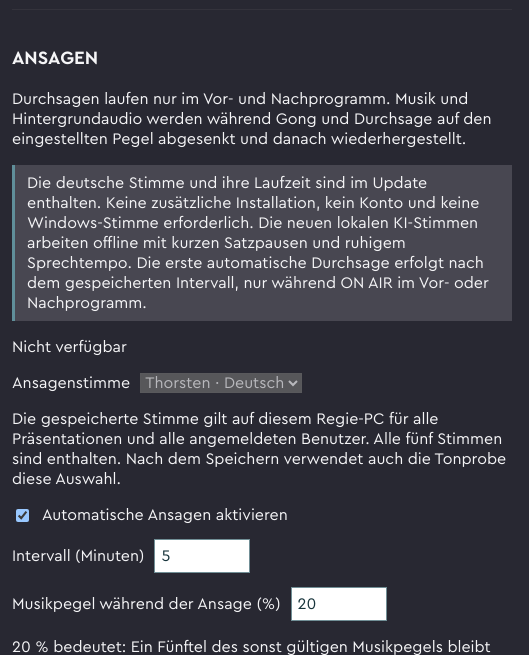
Test case: inactive announcement preparation settings › can disable saved announcements even when their engine has become unavailable
The width and height of the screenshot is (529, 655).
Click the checkbox labelled "Automatische Ansagen aktivieren".
click(22, 515)  # box [16,509,29,522]
(page scrolled)
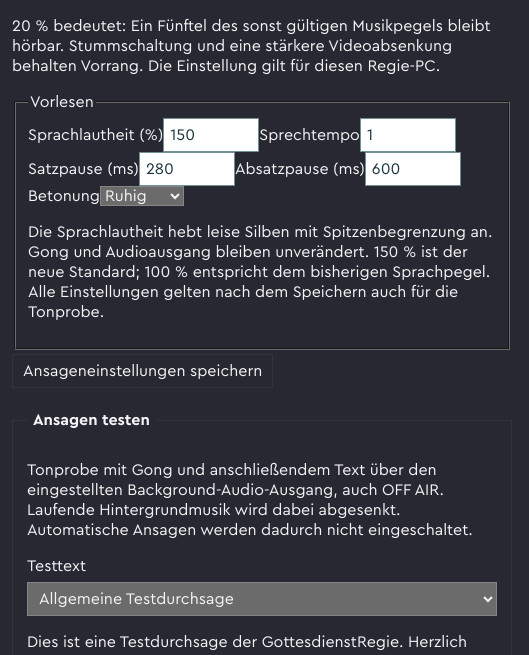
Click the button "Ansageneinstellungen speichern".
click(143, 371)  # box [12,354,273,388]
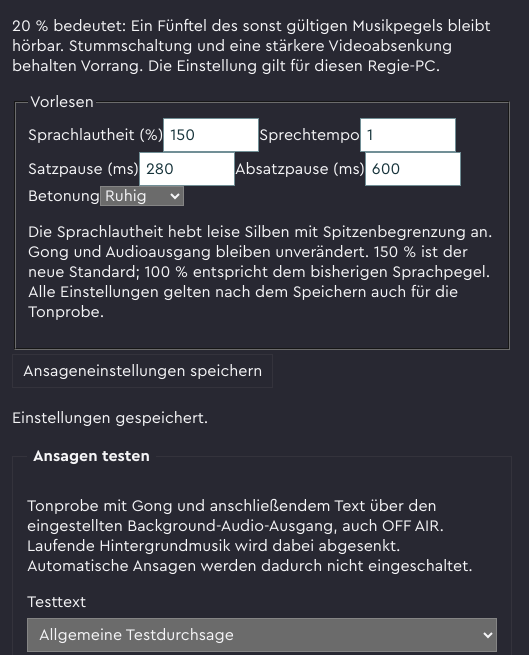
expect the text "Einstellungen gespeichert." is shown: met, box [12,410,208,426]
